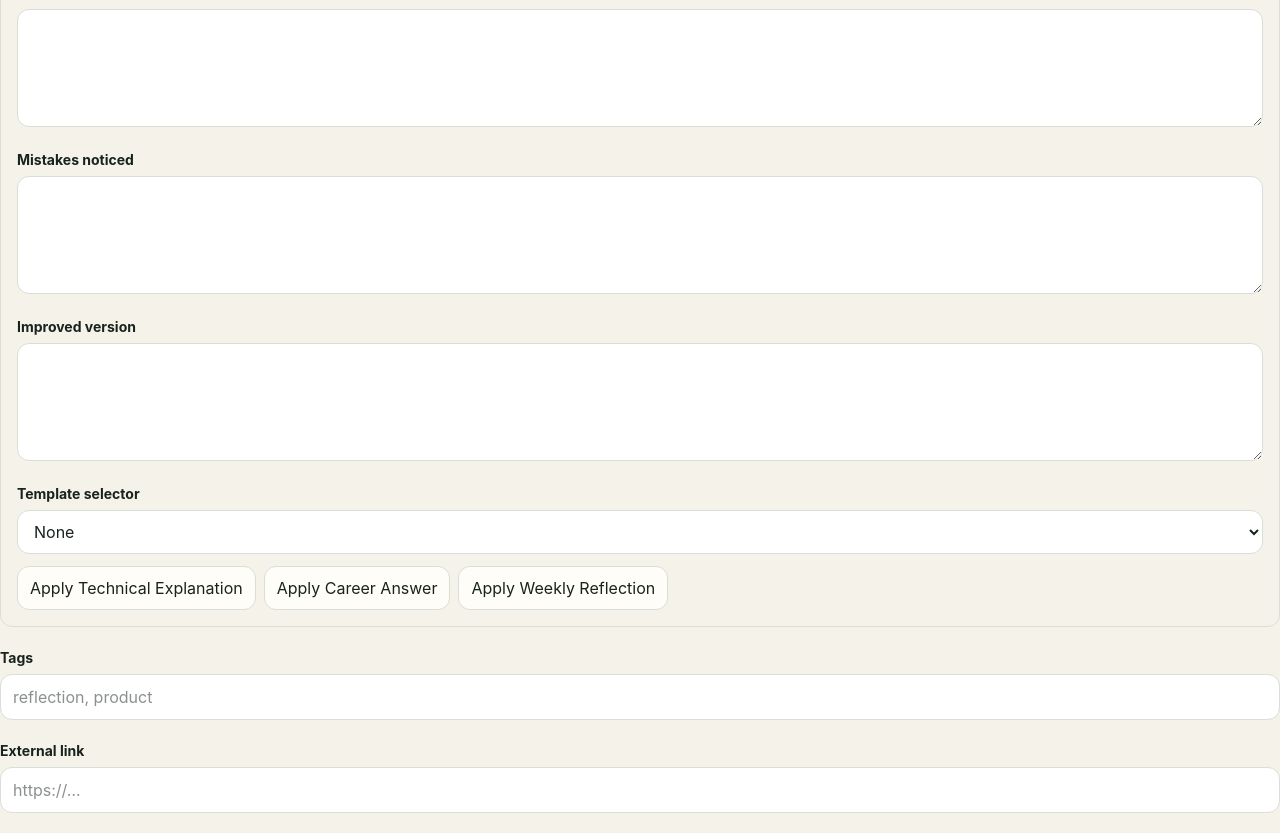
Scenario: ArtifactForm defaults › replaces whitespace-only content with the English template without confirming
(page scrolled)
Click the button "Apply Technical Explanation".
click(136, 588)  # box [17,566,256,610]
(page scrolled)
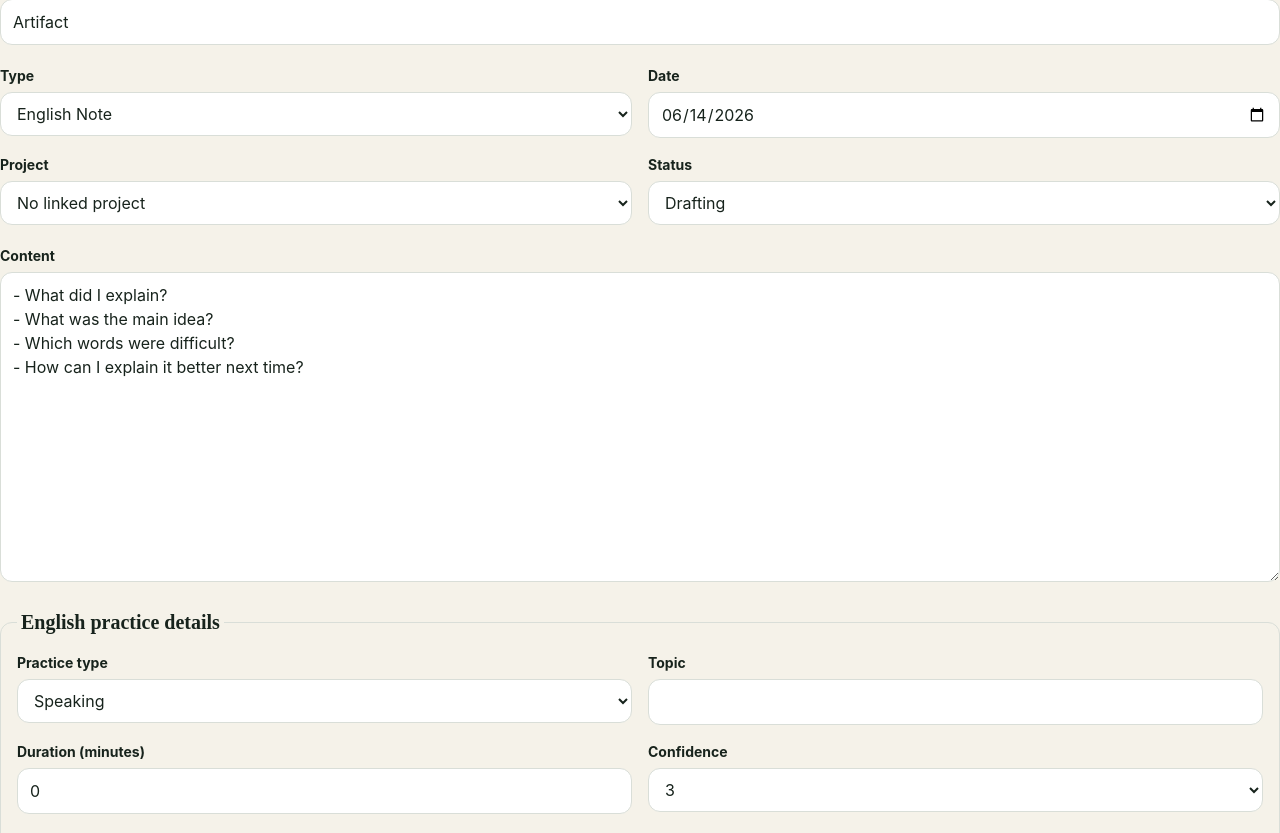
Expected: the text box labelled "Content" holds "- What did I explain? - What was the main idea? - Which words were difficult? - How can I explain it better next time? ", [0,272,1279,582]
